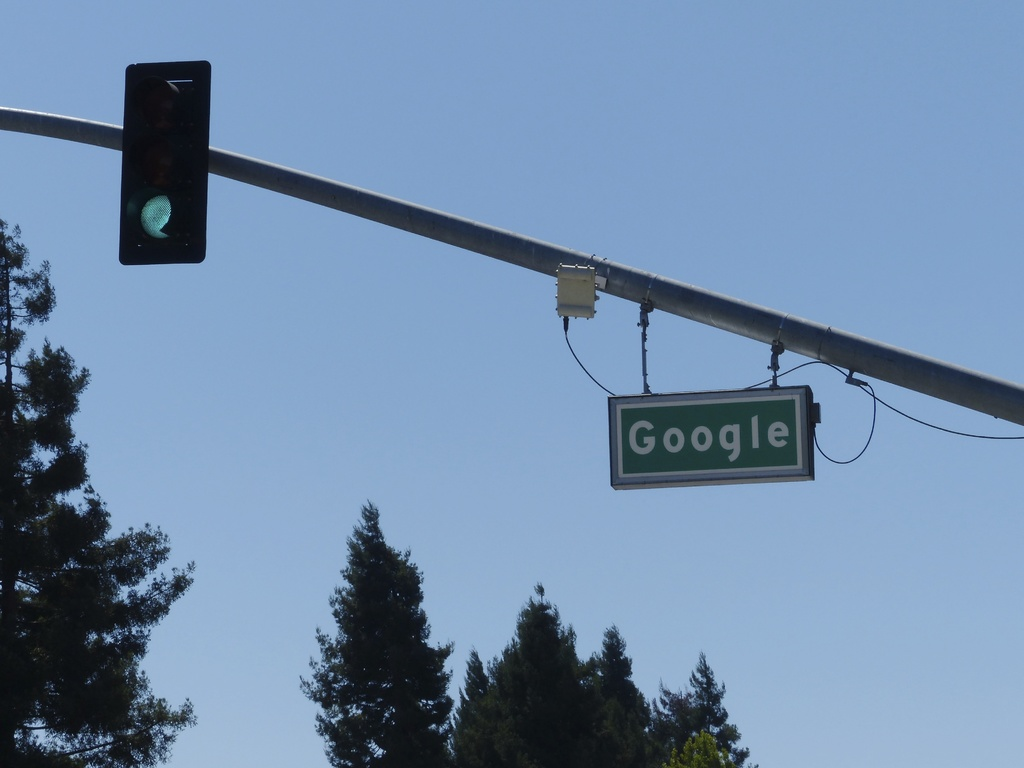green_light: (124, 66, 199, 261)
